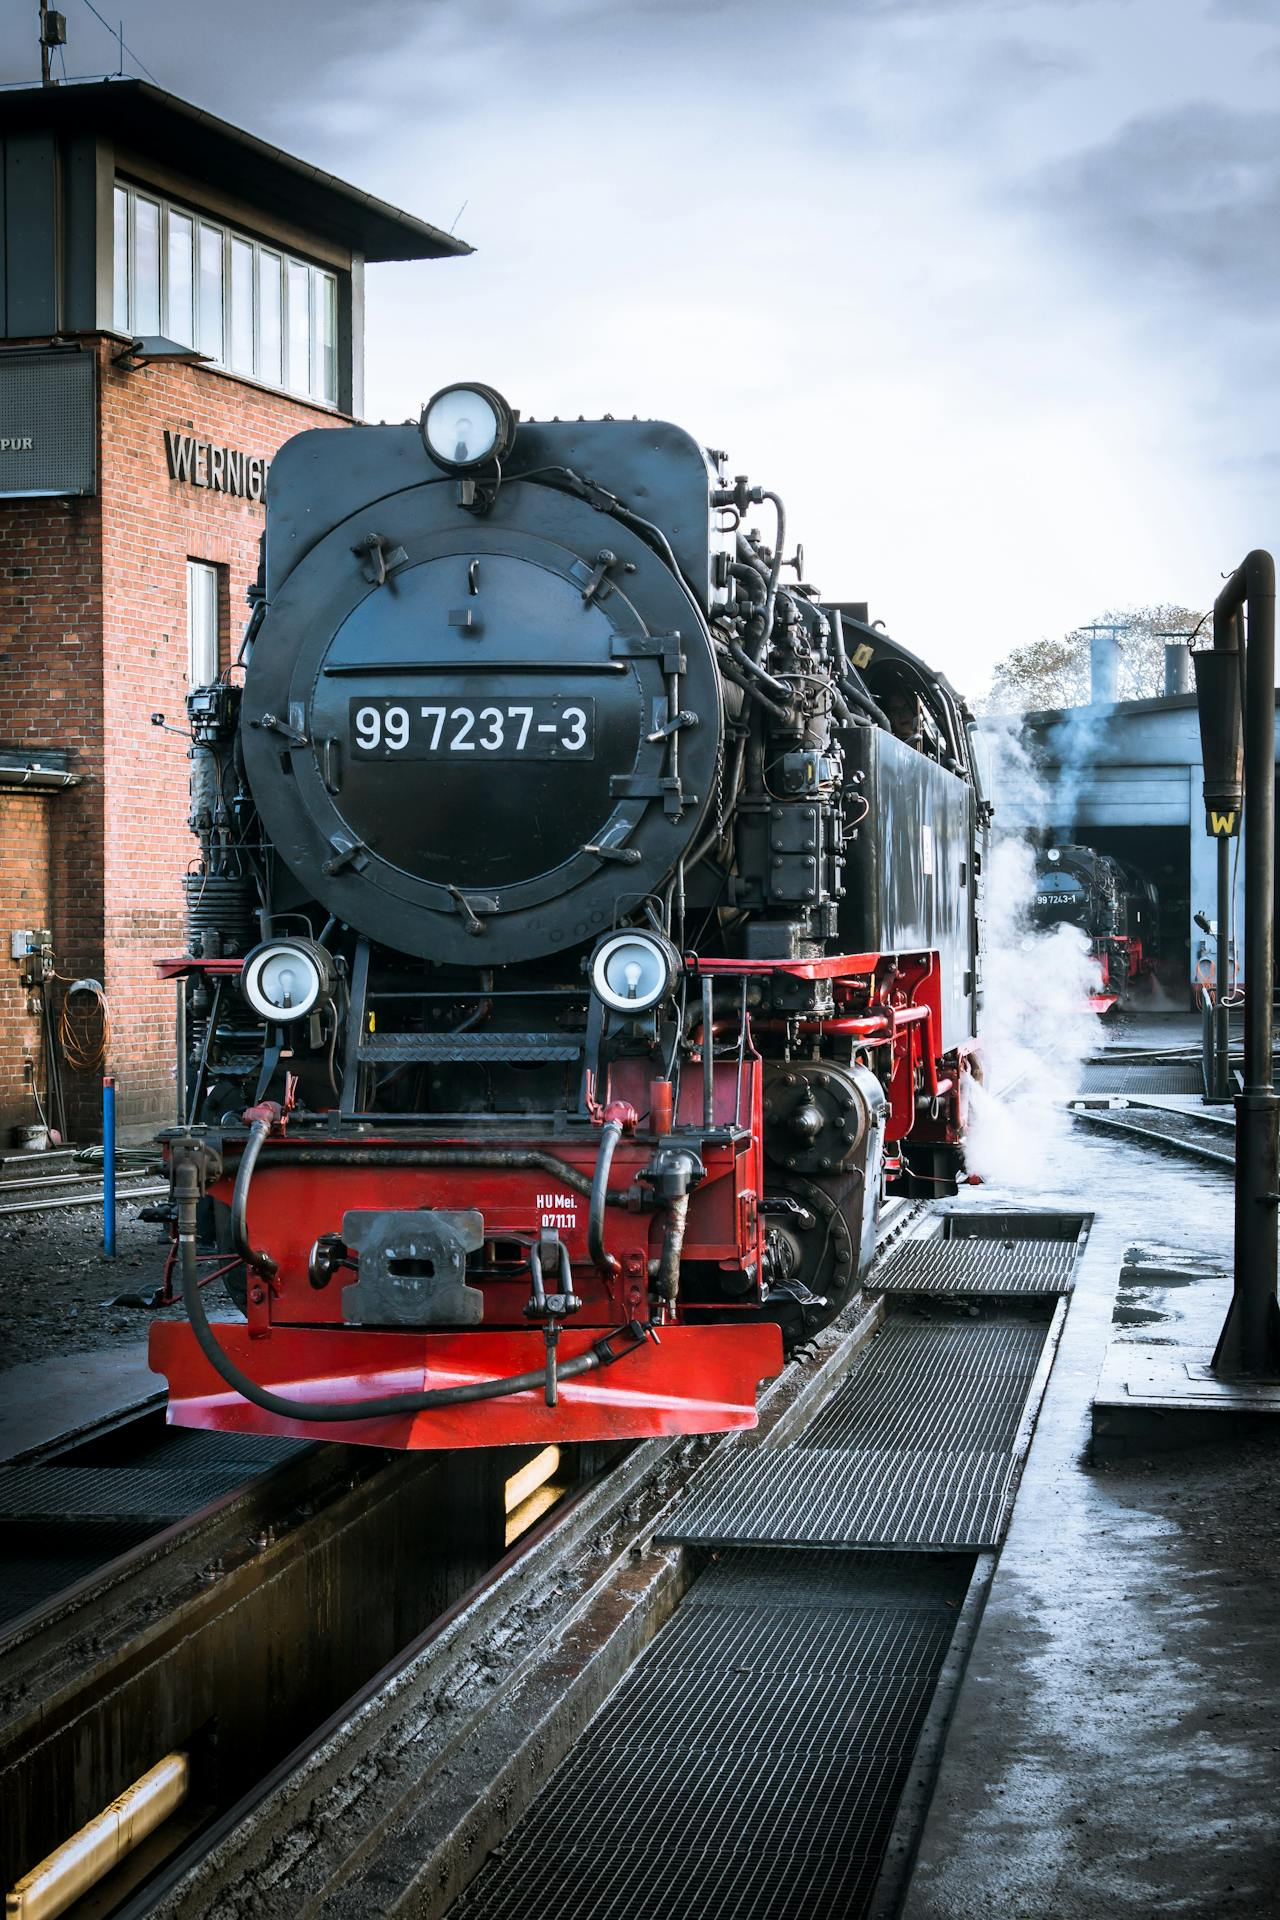train: (170, 394, 1014, 1470)
